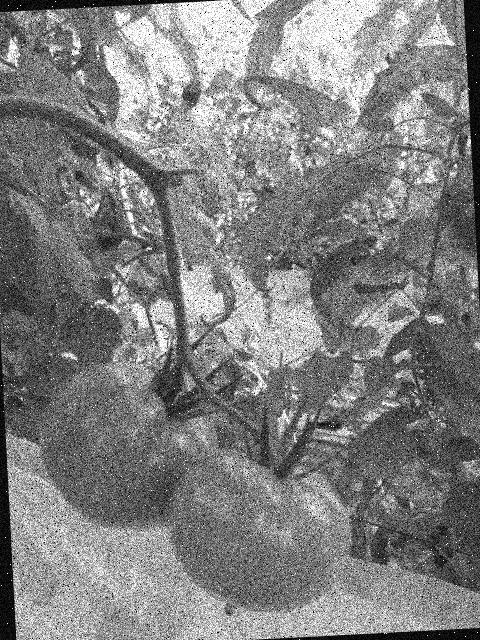b_green: (164, 442, 357, 618), (36, 356, 223, 537)
